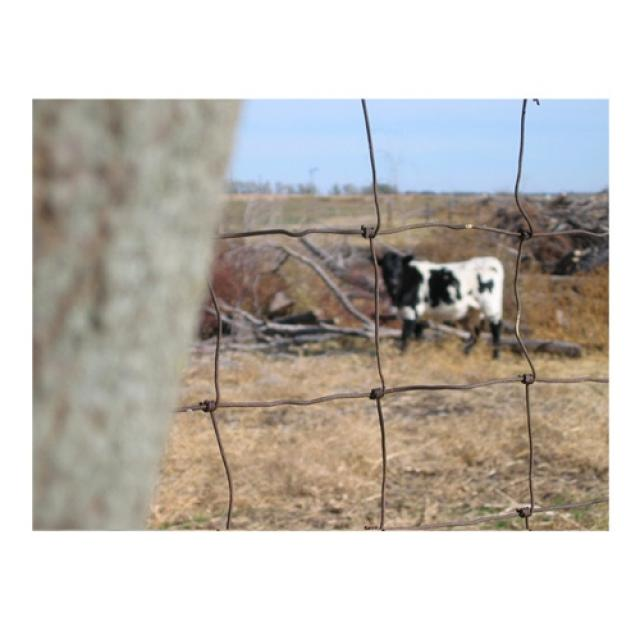cow: (362, 250, 511, 362)
